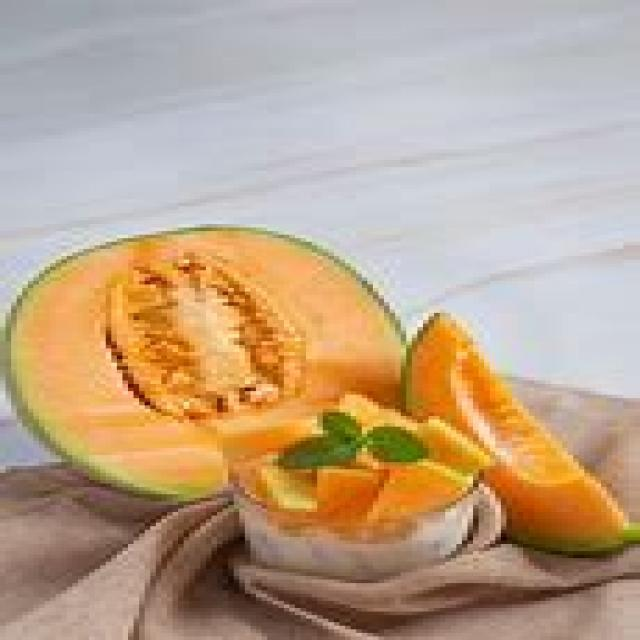Hami Melon: (5, 226, 410, 506)
